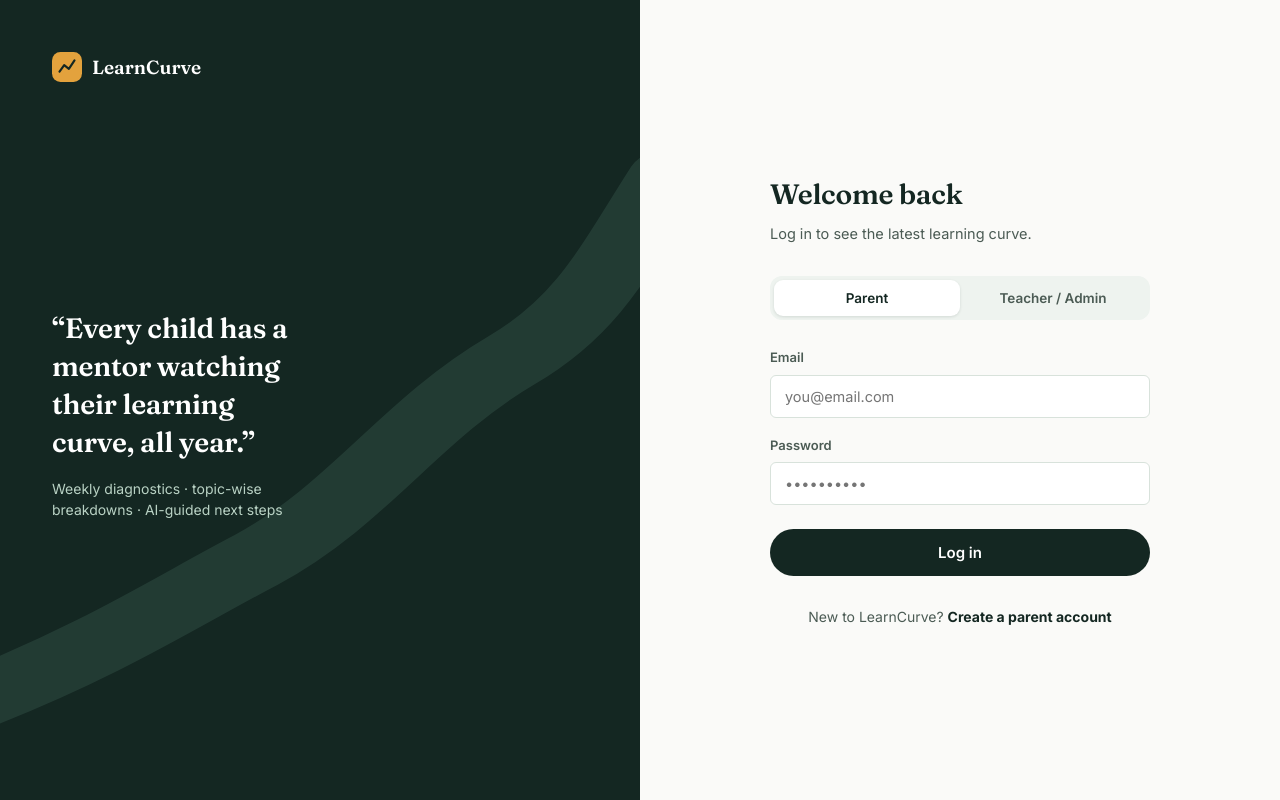
Test: auth flows › logs a parent in and lands on the dashboard
Type "priya@example.com" into the field labelled "Email" at {"x": 960, "y": 396}, box [770, 375, 1150, 418]
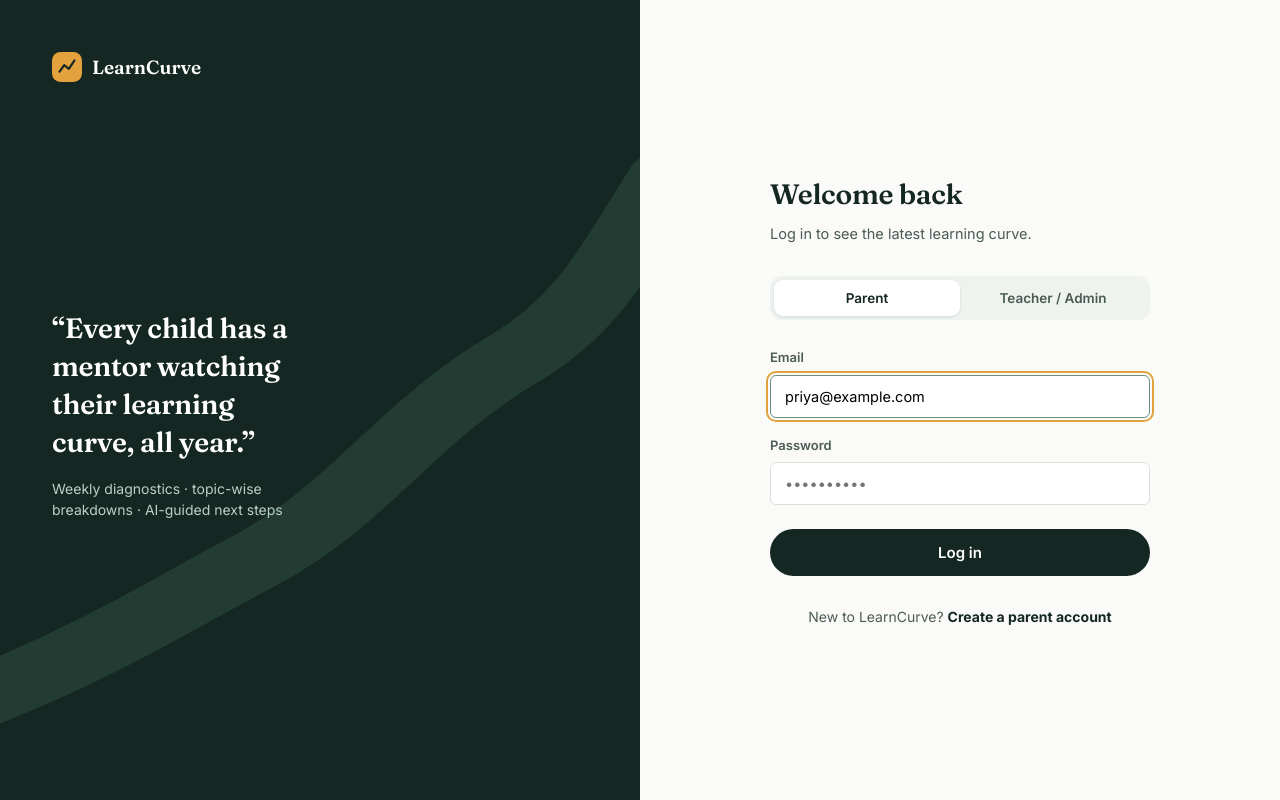
Type "correct-horse" into the password field labelled "Password" at {"x": 960, "y": 484}, box [770, 462, 1150, 505]
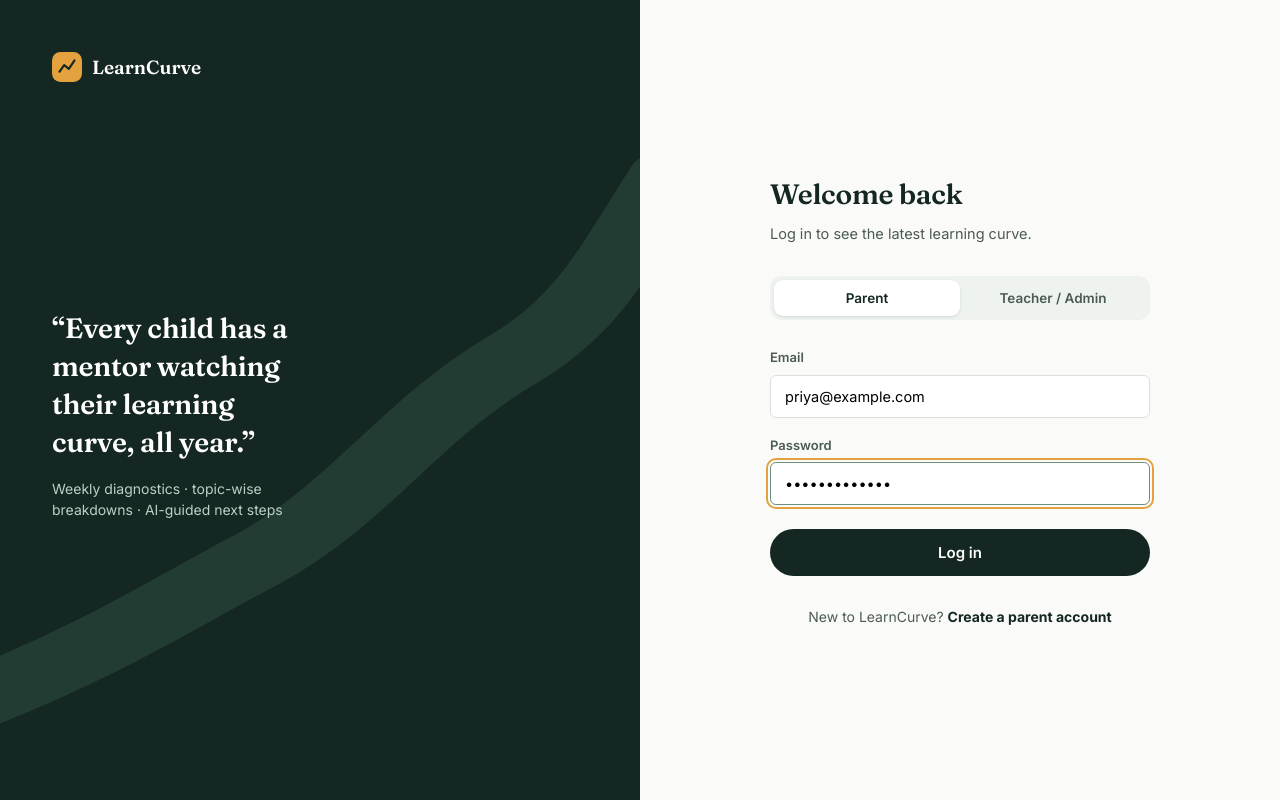
Click the button "Log in" at {"x": 960, "y": 553}, box [770, 529, 1150, 576]
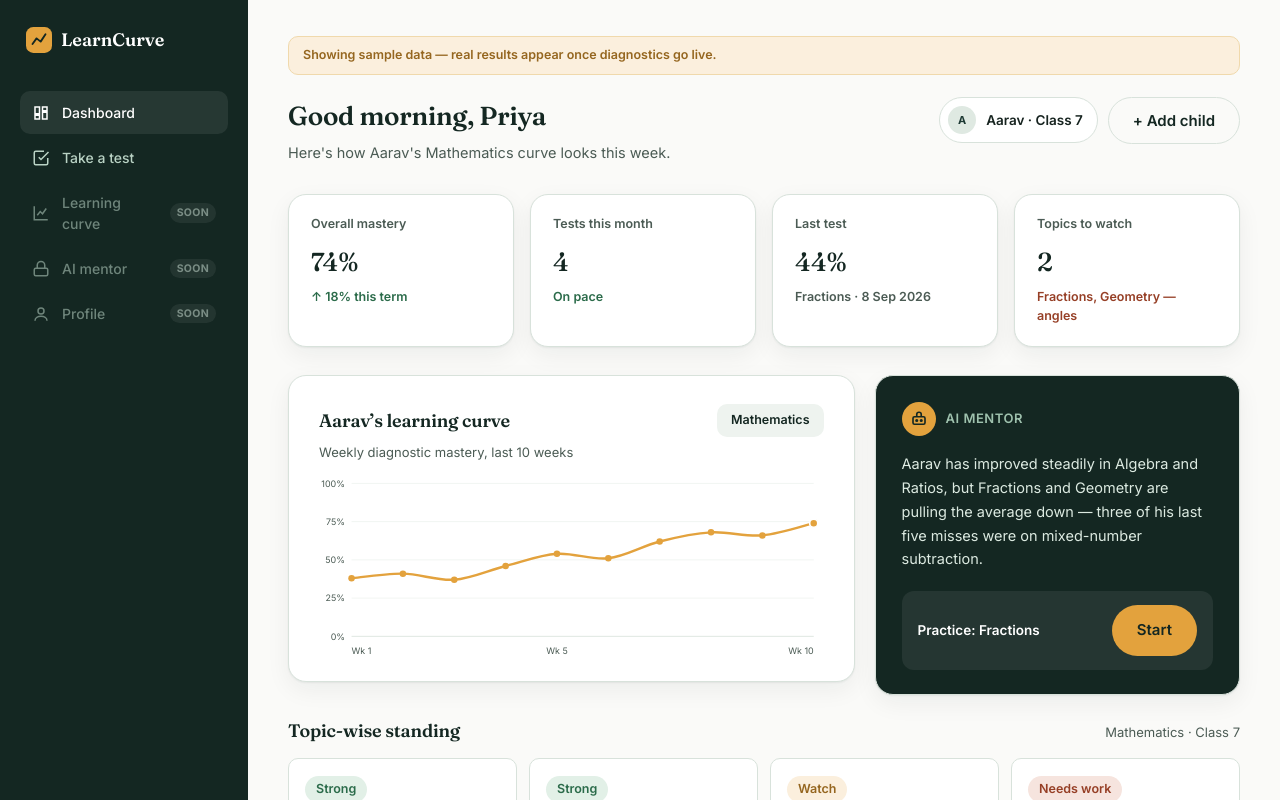
expect the heading "Good morning, Priya" is shown: met, box [288, 100, 546, 132]
